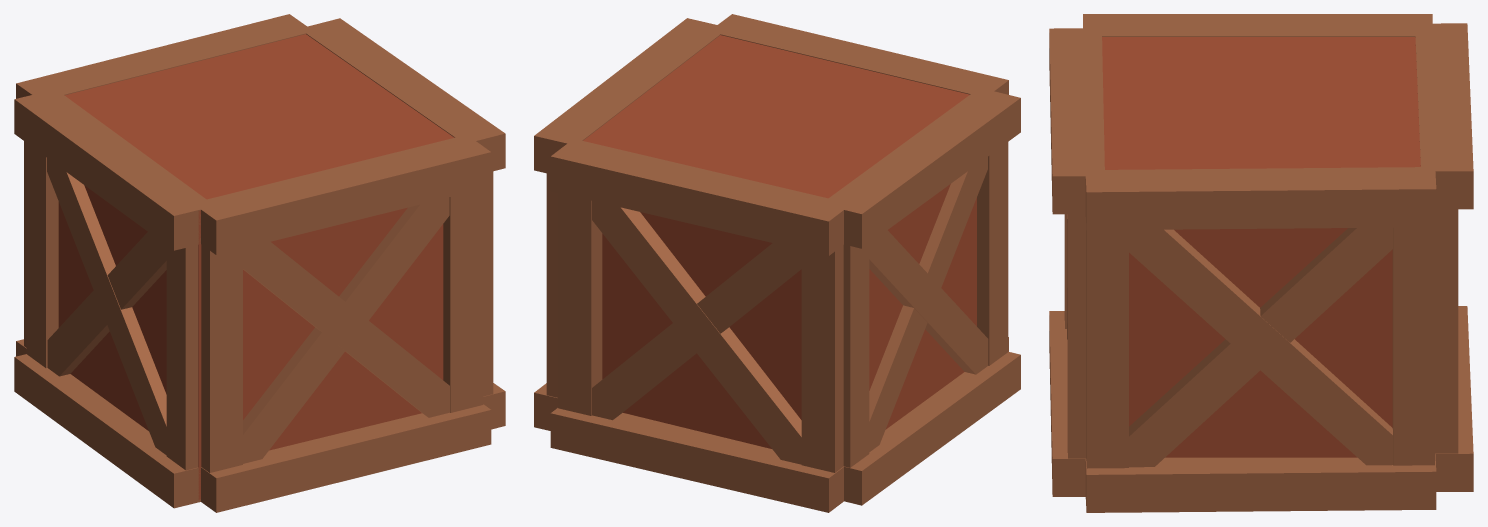
Rendered from Crate.glb.
3 renders of one model, left to right at view 1: azimuth 30°, elevation 25°; view 2: azimuth 150°, elevation 25°; view 3: azimuth 270°, elevation 25°, orthographic. The views are drawn at different scales.
Parts seen in each view (by area): view 1: Cube, Cube.012, Cube.010, Cube.001, Cube.009, Cube.007, Cube.003, Cube.008, Cube.011, Cube.006, Cube.013, Cube.002 (+6 smaller); view 2: Cube, Cube.024, Cube.022, Cube.001, Cube.019, Cube.023, Cube.003, Cube.020, Cube.021, Cube.013, Cube.004, Cube.012 (+5 smaller); view 3: Cube, Cube.013, Cube.015, Cube.018, Cube.016, Cube.017, Cube.014, Cube.012, Cube.024, Cube.001, Cube.020, Cube.011 (+2 smaller).
Boxes of the visible parts, bbox=[...] form: Cube: bbox=[58, 34, 454, 499]; Cube.012: bbox=[200, 137, 491, 255]; Cube.010: bbox=[201, 404, 491, 512]; Cube.001: bbox=[14, 89, 214, 250]; Cube.009: bbox=[243, 197, 449, 463]; Cube.007: bbox=[243, 242, 449, 417]; Cube.003: bbox=[14, 354, 200, 508]; Cube.008: bbox=[201, 245, 242, 472]; Cube.011: bbox=[443, 189, 483, 412]; Cube.006: bbox=[47, 158, 166, 455]; Cube.013: bbox=[299, 18, 505, 171]; Cube.002: bbox=[166, 245, 198, 470]; Cube: bbox=[583, 35, 976, 448]; Cube.024: bbox=[550, 139, 843, 255]; Cube.022: bbox=[550, 408, 843, 512]; Cube.001: bbox=[821, 88, 1020, 248]; Cube.019: bbox=[592, 200, 801, 464]; Cube.023: bbox=[801, 245, 843, 472]; Cube.003: bbox=[844, 351, 1020, 505]; Cube.020: bbox=[558, 193, 602, 415]; Cube.021: bbox=[592, 243, 801, 420]; Cube.013: bbox=[534, 18, 725, 174]; Cube.004: bbox=[869, 157, 987, 451]; Cube.012: bbox=[709, 14, 1008, 94]; Cube: bbox=[1102, 37, 1420, 457]; Cube.013: bbox=[1085, 167, 1436, 230]; Cube.015: bbox=[1085, 454, 1436, 512]; Cube.018: bbox=[1129, 229, 1392, 465]; Cube.016: bbox=[1129, 227, 1392, 467]; Cube.017: bbox=[1086, 230, 1128, 468]; Cube.014: bbox=[1392, 227, 1434, 465]; Cube.012: bbox=[1049, 28, 1104, 214]; Cube.024: bbox=[1415, 23, 1473, 209]; Cube.001: bbox=[1083, 14, 1432, 36]; Cube.020: bbox=[1435, 209, 1458, 453]; Cube.011: bbox=[1067, 214, 1086, 458].
Size of the model in its own units: 2.41 by 2.02 by 2.42.
